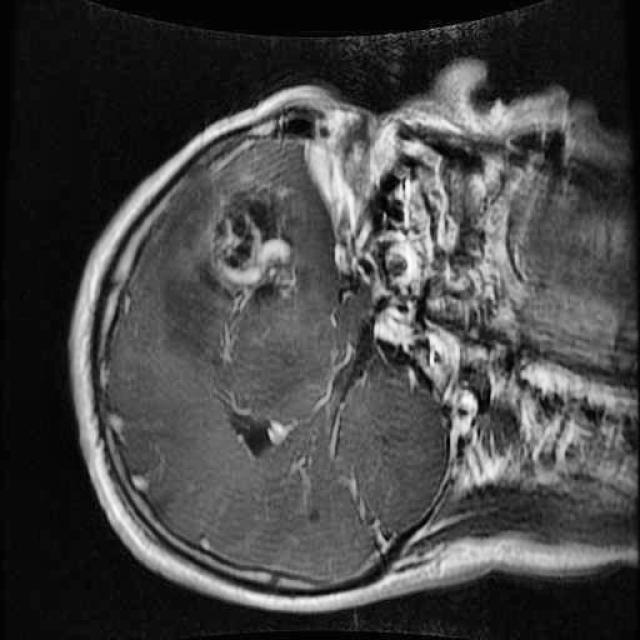Tumor: (147, 160, 302, 375)
